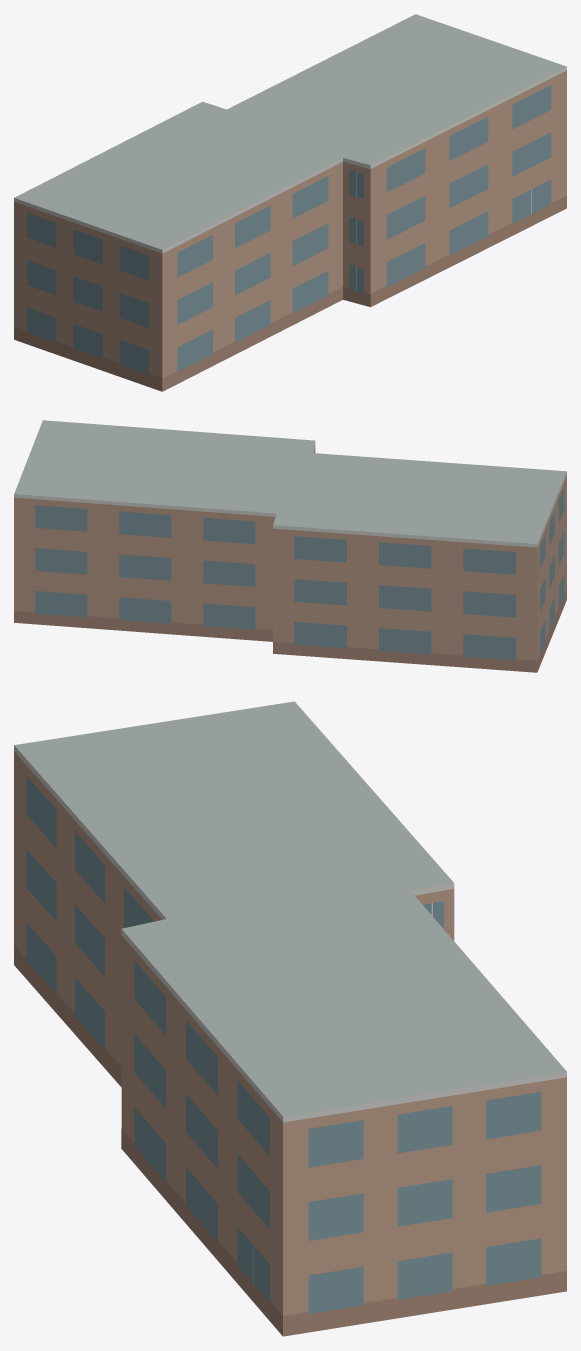
Rendered from survey-upis-32614113.glb.
3 views of the same model, one above another, from view 1: azimuth 30°, elevation 25°; view 2: azimuth 150°, elevation 25°; view 3: azimuth 270°, elevation 25° (orthographic). The views are drawn at different scales.
Visible parts, largest first — view 1: survey-upis-32614113.tmp; view 2: survey-upis-32614113.tmp; view 3: survey-upis-32614113.tmp.
Part boxes in pixels (bbox=[...]): survey-upis-32614113.tmp: bbox=[14, 14, 566, 391]; survey-upis-32614113.tmp: bbox=[14, 420, 566, 672]; survey-upis-32614113.tmp: bbox=[14, 701, 566, 1336].
Size of the model in its own units: 37.07 by 9.15 by 20.86.
